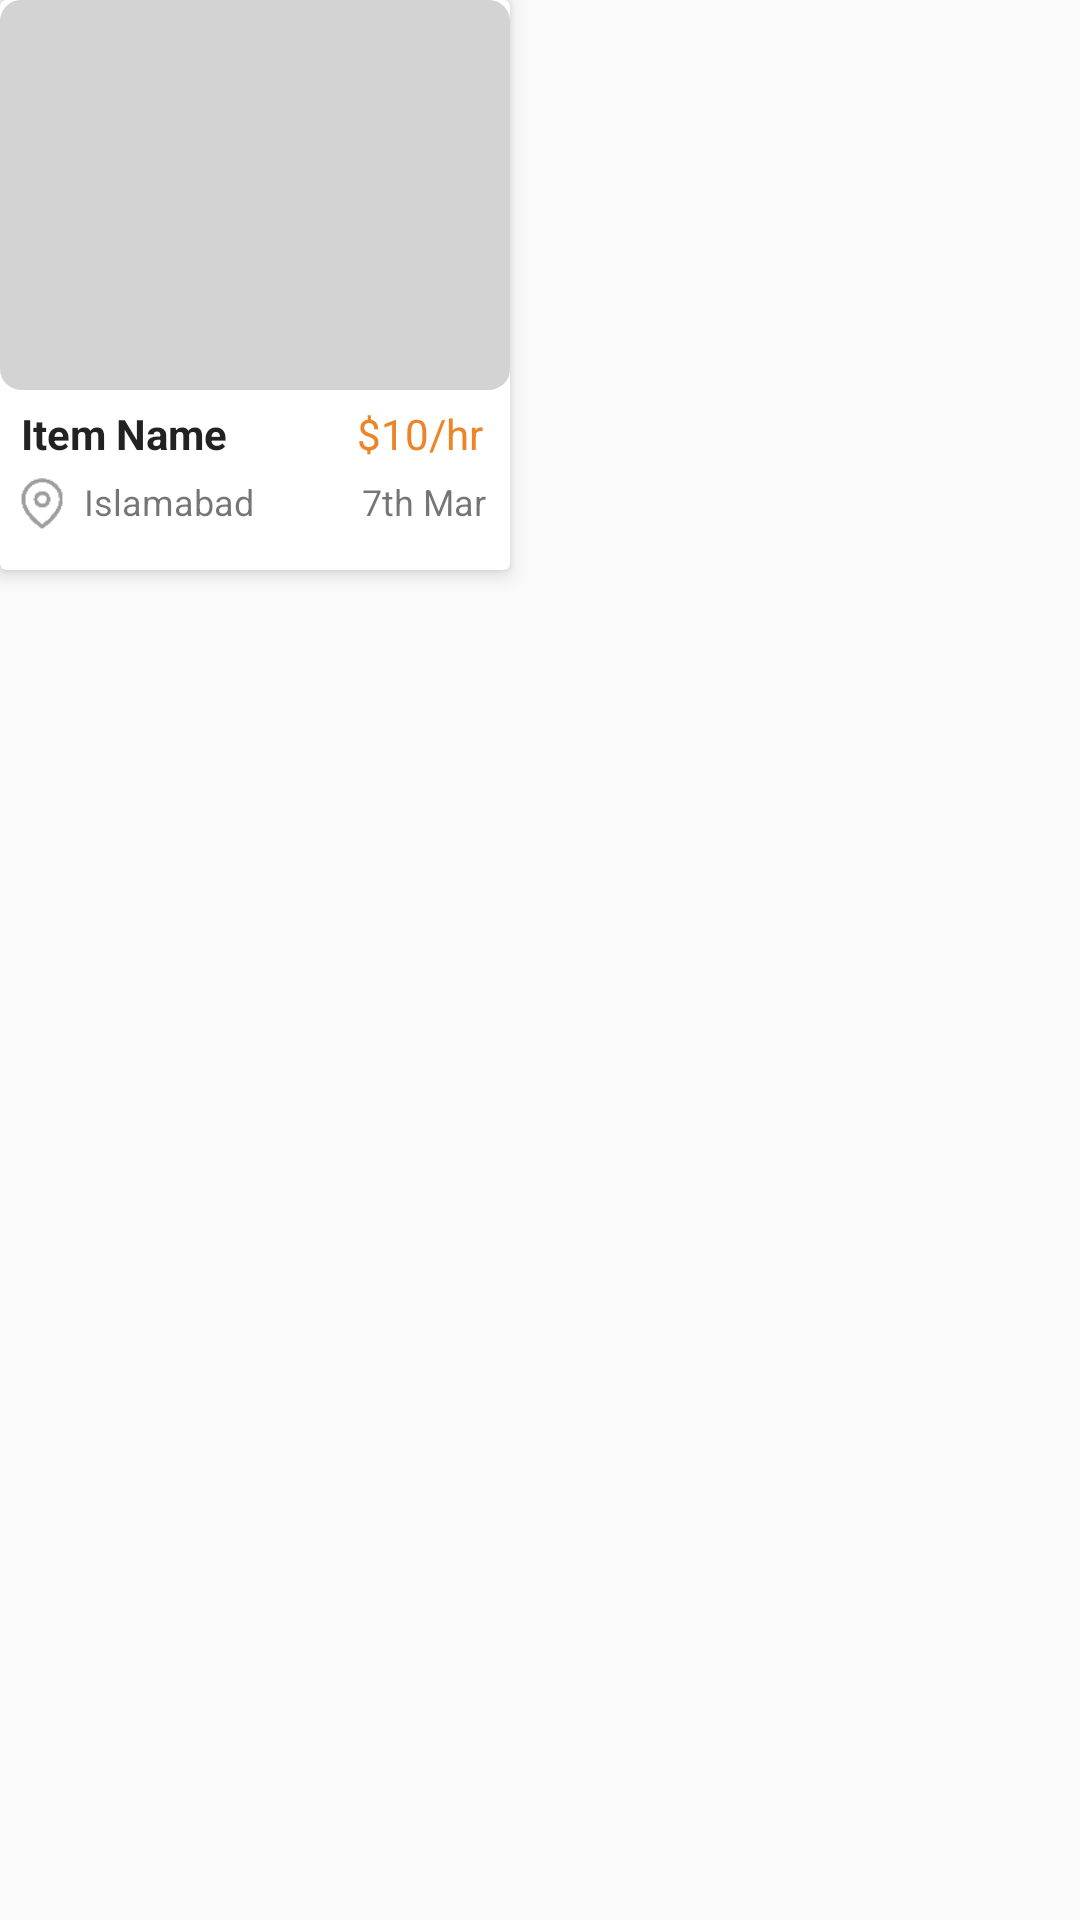

Icons on this 1080*1920 Android screen, each with the point to tap as point (x, y):
location: point (42, 503)
